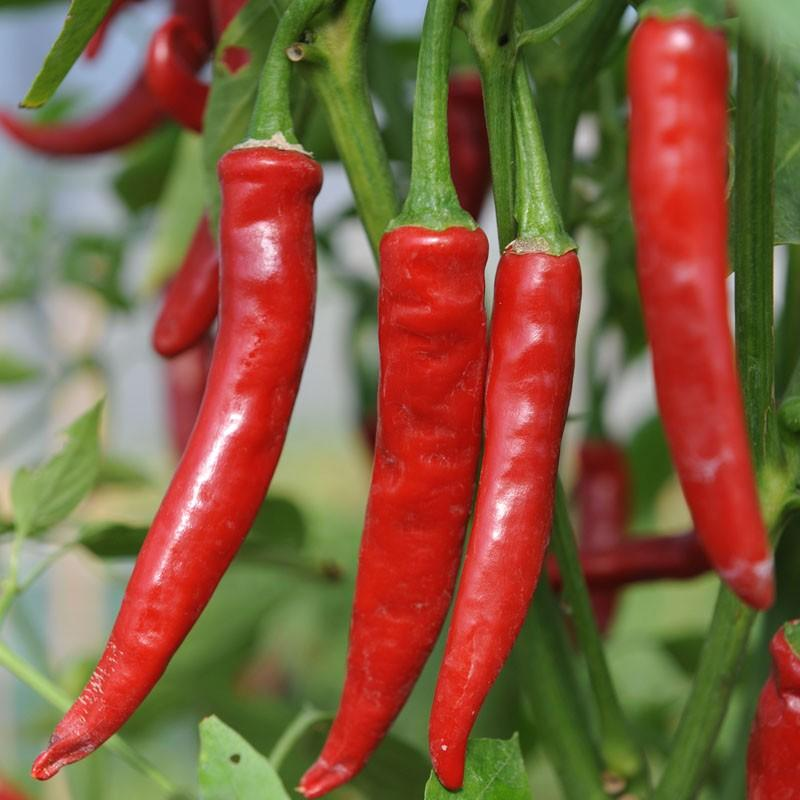chilli pepper: (22, 1, 778, 796), (29, 132, 322, 781), (294, 1, 491, 796), (426, 10, 583, 791), (624, 4, 776, 612), (151, 206, 219, 358), (744, 618, 798, 799)
